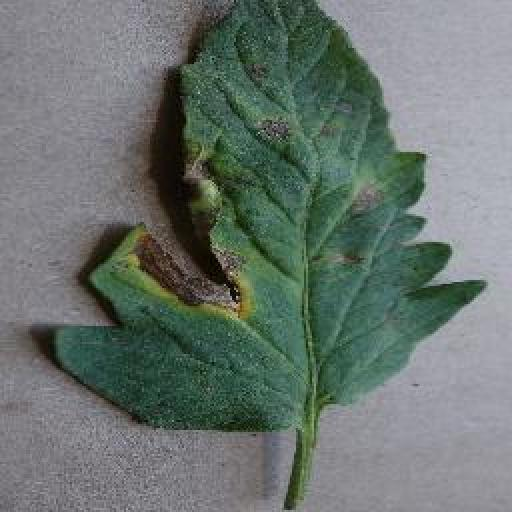disease_tomato: (52, 2, 491, 430)
